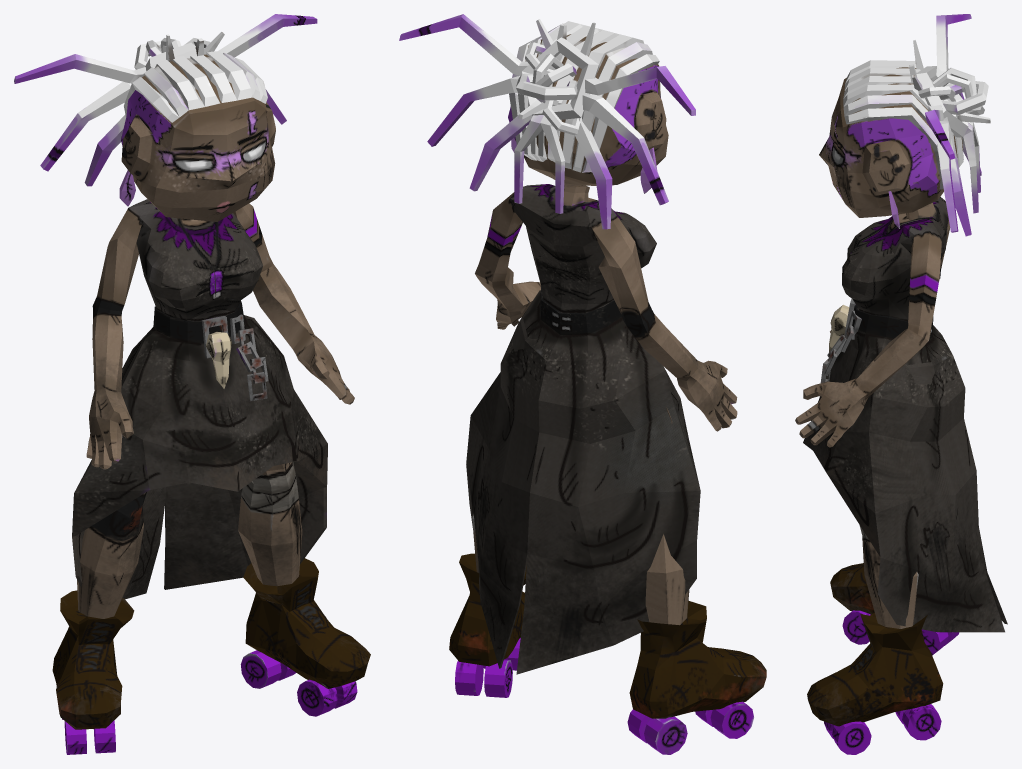
Rendered from bruja_000004.obj.
3 views of the same model, side by side, from view 1: azimuth 30°, elevation 25°; view 2: azimuth 150°, elevation 25°; view 3: azimuth 270°, elevation 25° (orthographic). The views are drawn at different scales.
Visible parts, largest first — view 1: Bruja_Plane.001; view 2: Bruja_Plane.001; view 3: Bruja_Plane.001.
Part boxes in pixels (bbox=[...]): Bruja_Plane.001: bbox=[14, 14, 370, 754]; Bruja_Plane.001: bbox=[399, 14, 766, 754]; Bruja_Plane.001: bbox=[795, 14, 1007, 754].
Bounding box in the file's own units: 7.74 × 16.48 × 4.91.
